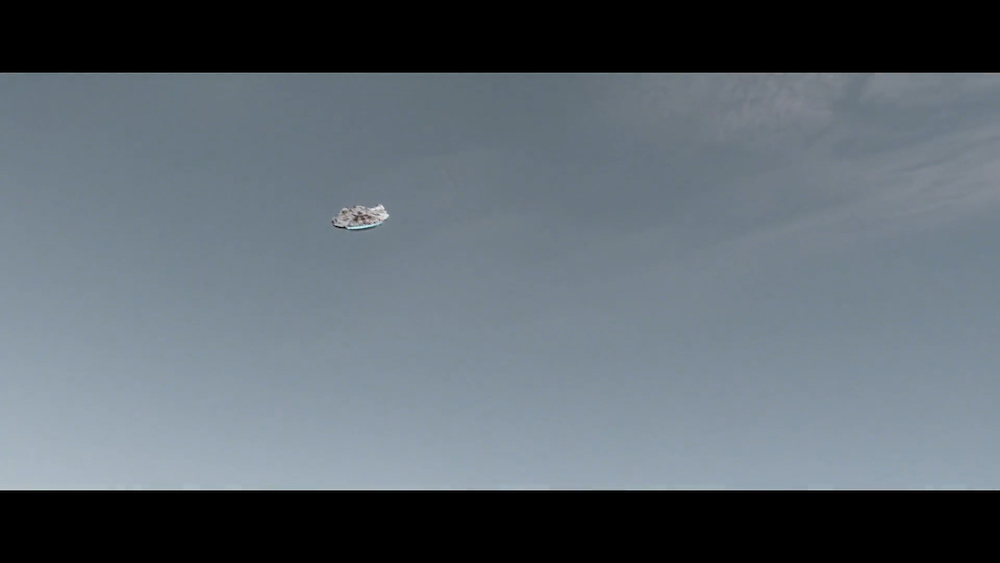Millennium Falcon: (331, 205, 390, 233)
